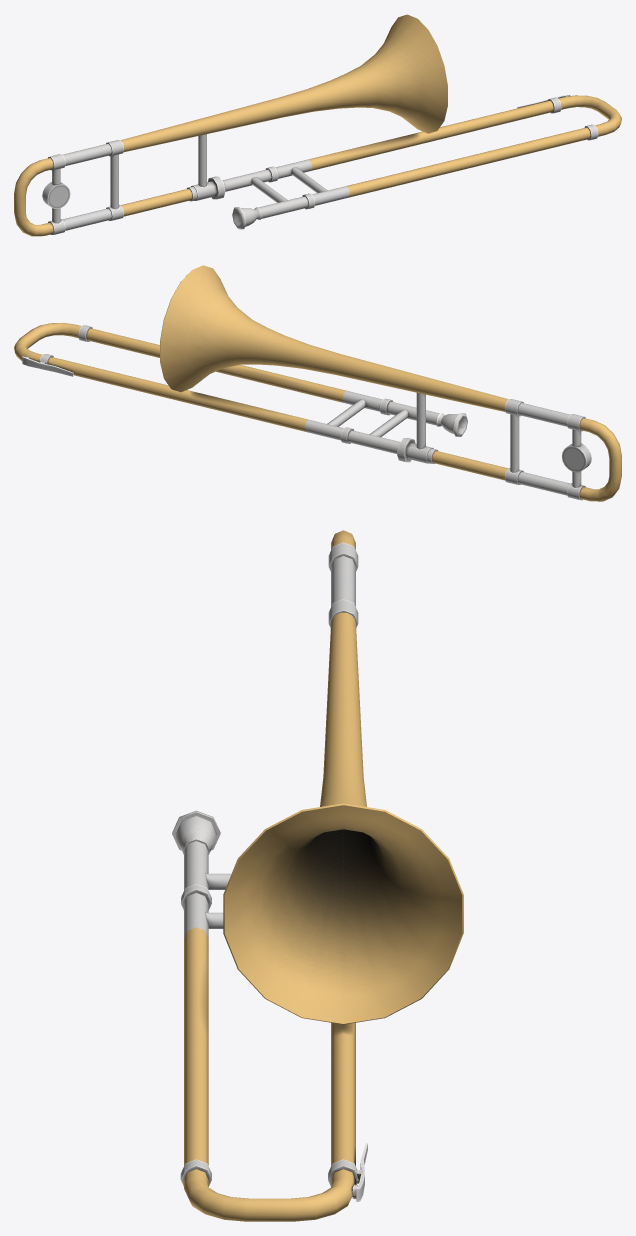
The model's file is Trombone.FBX.
3 views of the same model, one above another, from view 1: azimuth 30°, elevation 25°; view 2: azimuth 150°, elevation 25°; view 3: azimuth 270°, elevation 25° (orthographic). The views are drawn at different scales.
Visible parts, largest first — view 1: Trombone; view 2: Trombone; view 3: Trombone.
Part boxes in pixels (left/top/right/bottom): Trombone: left=14, top=14, right=621, bottom=236; Trombone: left=14, top=265, right=621, bottom=501; Trombone: left=172, top=530, right=463, bottom=1221.
Size of the model in its own units: 135 by 29.23 by 29.48.
1 material, 1 textured.
